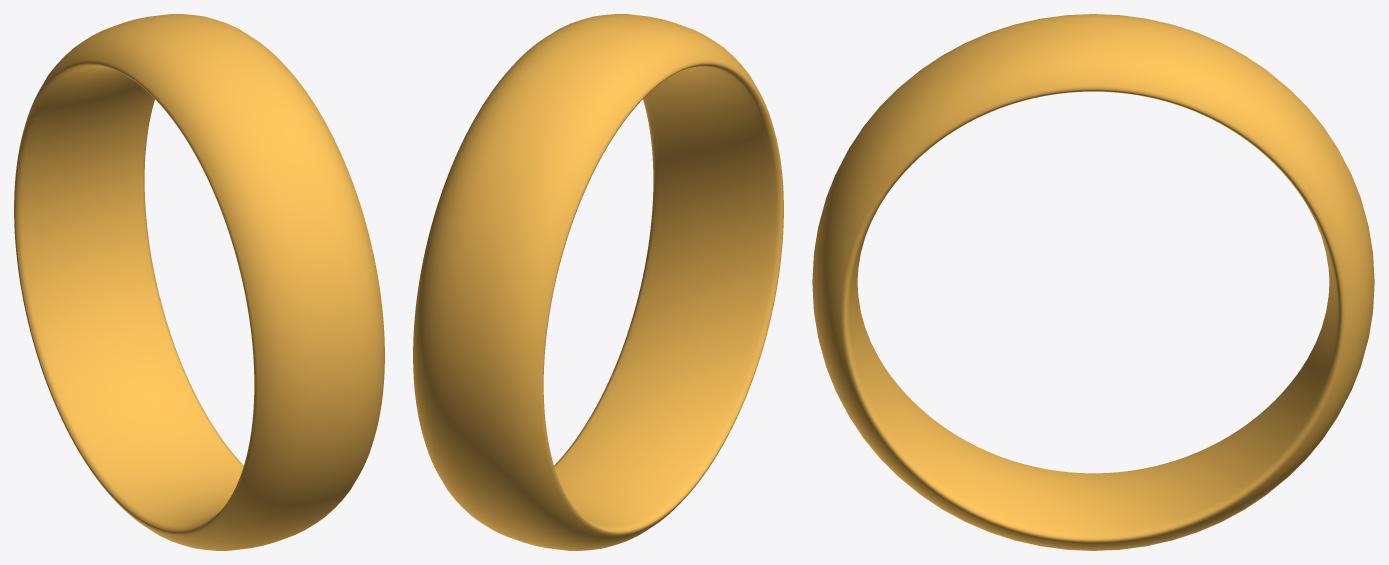
The model's file is ring_b.glb.
3 views of the same model, side by side, from view 1: azimuth 30°, elevation 25°; view 2: azimuth 150°, elevation 25°; view 3: azimuth 270°, elevation 25° (orthographic). The views are drawn at different scales.
Visible parts, largest first — view 1: Object_5; view 2: Object_5; view 3: Object_5.
Part boxes in pixels (left/top/right/bottom): Object_5: left=14, top=14, right=384, bottom=550; Object_5: left=413, top=14, right=783, bottom=550; Object_5: left=812, top=14, right=1374, bottom=550.
Bounding box in the file's own units: 0.2778 × 1 × 1.
